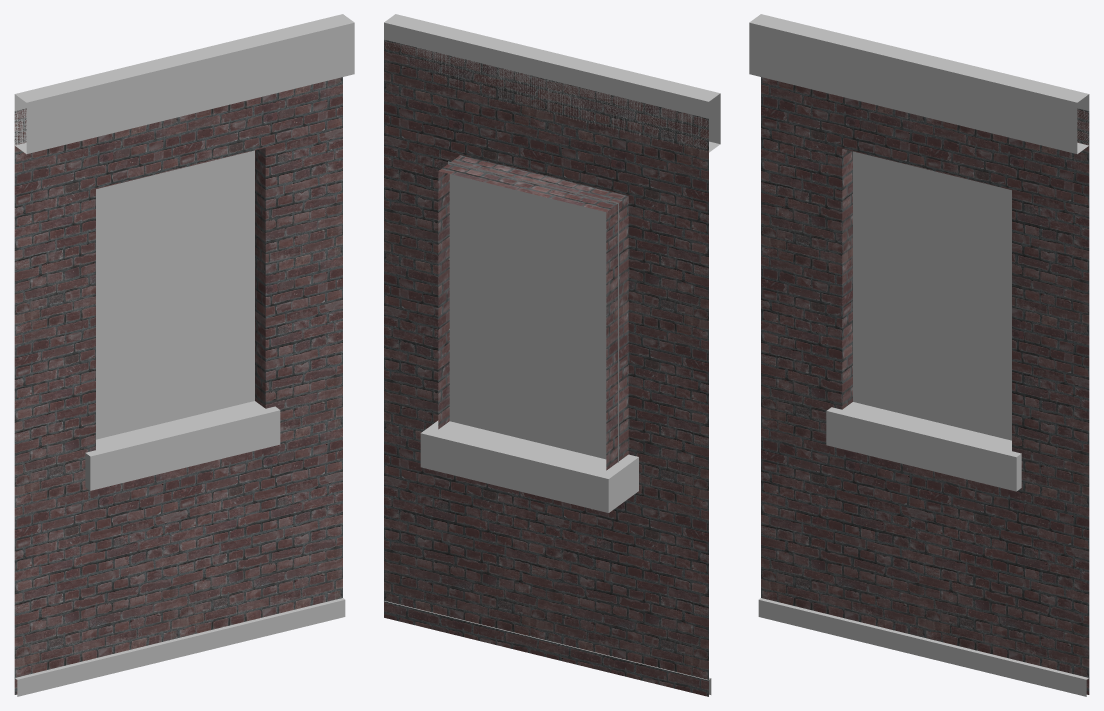
File: Wall_A_Brick_Window_F_2x.FBX
3 renders of one model, left to right at view 1: azimuth 30°, elevation 25°; view 2: azimuth 150°, elevation 25°; view 3: azimuth 330°, elevation 25°, orthographic.
Visible parts, largest first — view 1: Wall_A_Brick_Window_F_2x; view 2: Wall_A_Brick_Window_F_2x; view 3: Wall_A_Brick_Window_F_2x.
Boxes of the visible parts, x1,y1,x2,y2 form: Wall_A_Brick_Window_F_2x: (14,14,354,696); Wall_A_Brick_Window_F_2x: (384,14,720,696); Wall_A_Brick_Window_F_2x: (749,14,1089,696).
Bounding box in the file's own units: 200 × 350 × 44.71.
